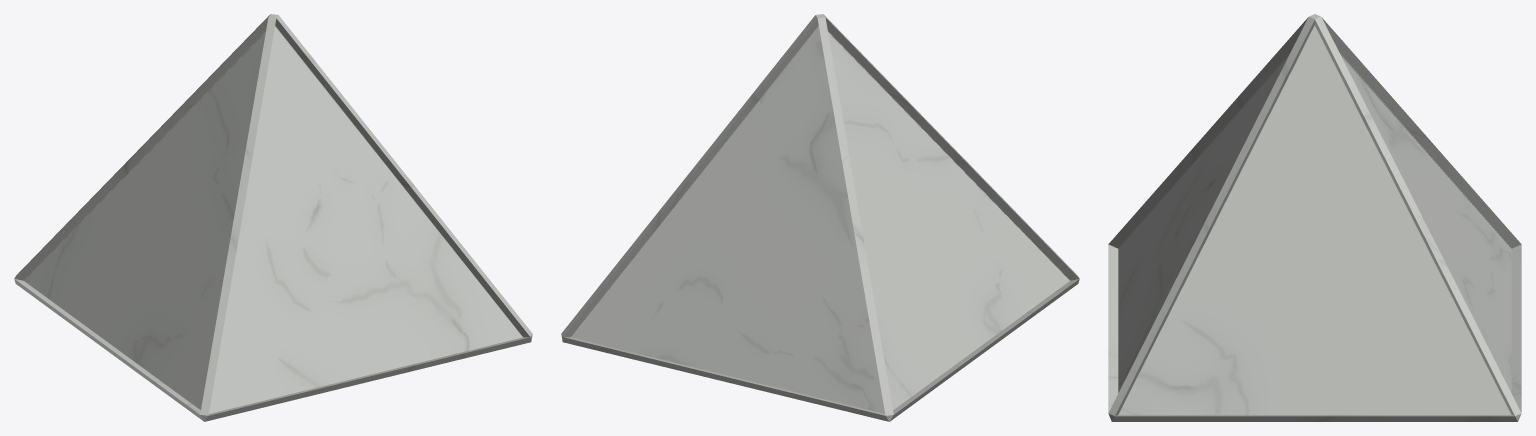
The picture shows the model from 3 angles, left to right: view 1: azimuth 30°, elevation 25°; view 2: azimuth 150°, elevation 25°; view 3: azimuth 270°, elevation 25°; orthographic projection. The views are drawn at different scales.
Visible parts, largest first — view 1: SM_Pyramid; view 2: SM_Pyramid; view 3: SM_Pyramid.
Boxes of the visible parts, bbox=[...] form: SM_Pyramid: bbox=[14, 14, 532, 421]; SM_Pyramid: bbox=[561, 14, 1079, 421]; SM_Pyramid: bbox=[1108, 14, 1521, 421].
Size of the model in its own units: 1.98 by 1.69 by 1.98.
